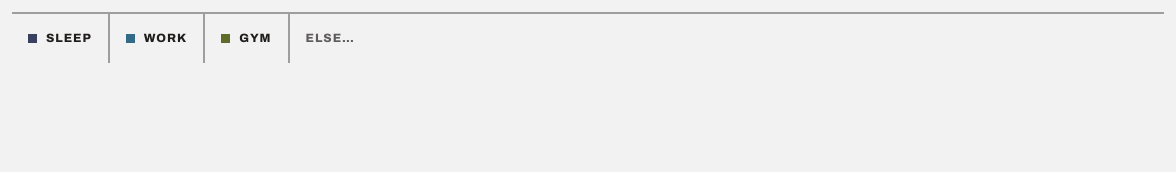
Test: ControlBar › custom away (Else…) › renders recent-label chips from settings.recentAwayLabels
Click the button with test id "control-away-more".
click(330, 38)  # box [290, 14, 1164, 63]
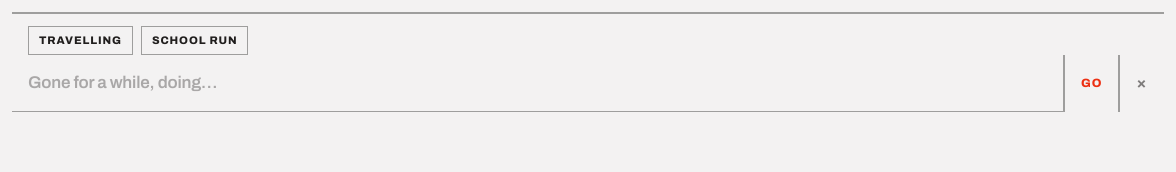
Now the button with test id "control-recent-0" reads "Travelling", box [28, 26, 133, 55]
Now the button with test id "control-recent-1" reads "School run", box [141, 26, 248, 55]
